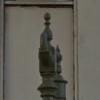Statue: (30, 10, 69, 94)
